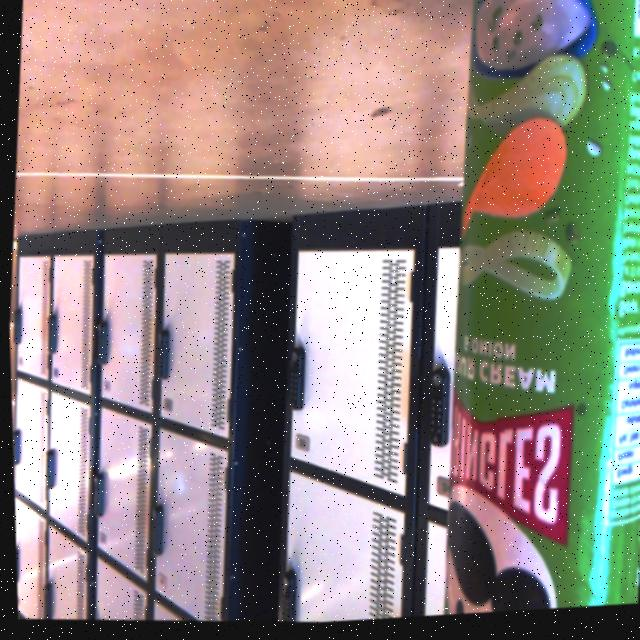greenpringles: (406, 0, 640, 621)
